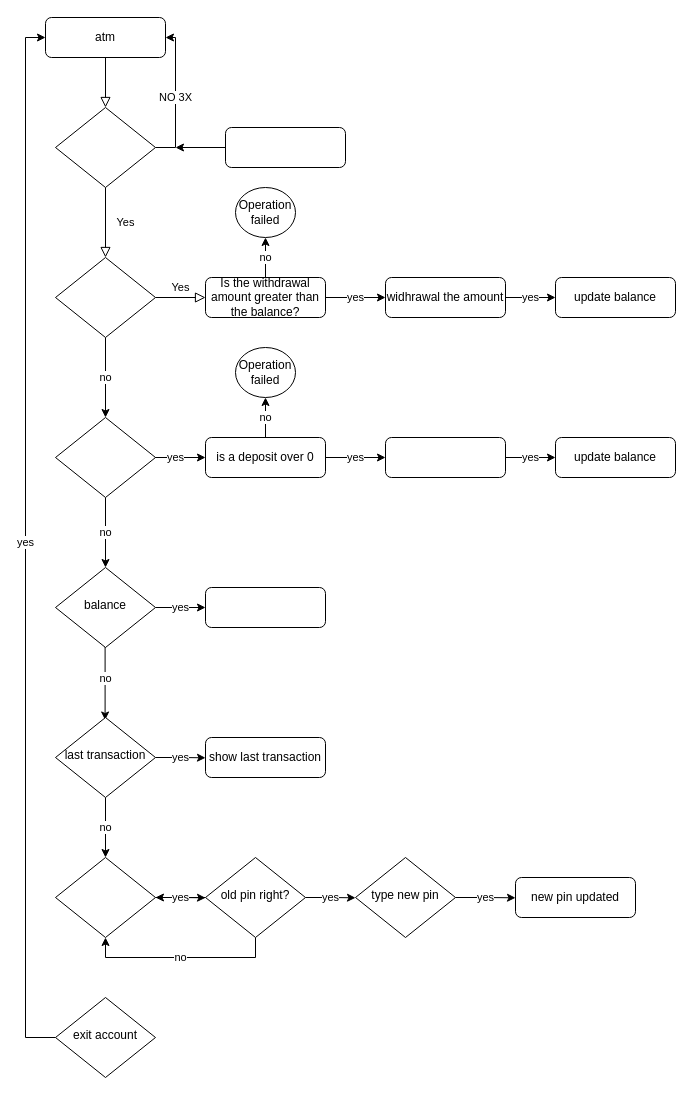
The diagram is 693 pixels wide and 1095 high, and some of its shapes have lost their labels. The centre of each missing label's shape, as x and y in pixels:
account locked: the point at 285,147
change pin code: the point at 105,897
deposit: the point at 105,457
deposit amount: the point at 445,457
pin is right: the point at 105,147
show balance: the point at 265,607
withdrawal?: the point at 105,297
